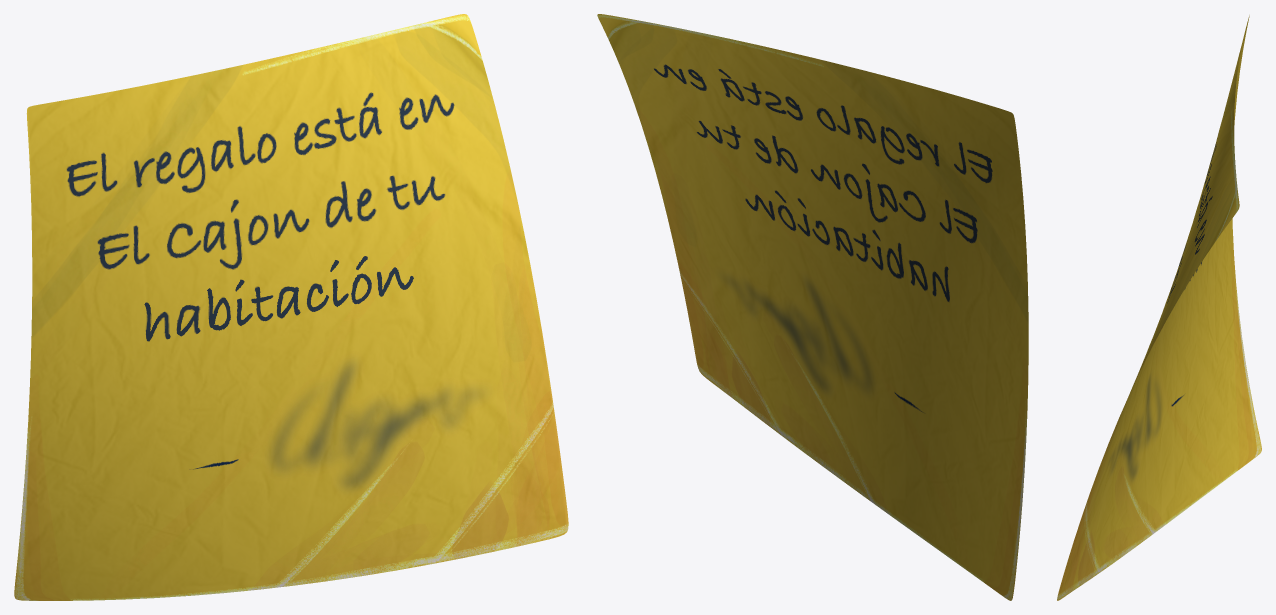
The model's file is Postit2.fbx.
3 renders of one model, left to right at view 1: azimuth 30°, elevation 25°; view 2: azimuth 150°, elevation 25°; view 3: azimuth 270°, elevation 25°, orthographic. The views are drawn at different scales.
Parts seen in each view (by area): view 1: Plane; view 2: Plane; view 3: Plane.
Boxes of the visible parts, x1,y1,x2,y2 form: Plane: [14, 14, 568, 600]; Plane: [597, 14, 1028, 600]; Plane: [1057, 15, 1261, 600].
Size of the model in its own units: 366 by 393 by 165.
Materials: 1 (1 with a texture image).
